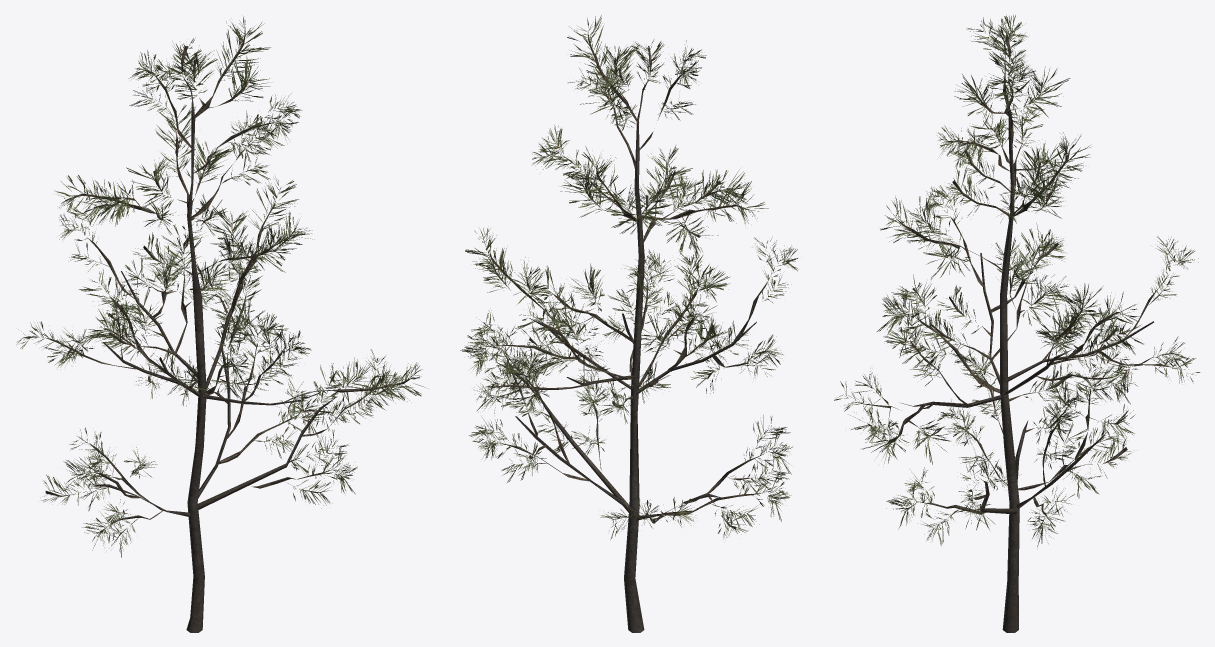
File: pine-sapling-small.glb
3 renders of one model, left to right at view 1: azimuth 30°, elevation 25°; view 2: azimuth 150°, elevation 25°; view 3: azimuth 270°, elevation 25°, orthographic.
Visible parts, largest first — view 1: pine_sapling_small_a; view 2: pine_sapling_small_a; view 3: pine_sapling_small_a.
Boxes of the visible parts, x1,y1,x2,y2 form: pine_sapling_small_a: (16, 17, 428, 632); pine_sapling_small_a: (460, 15, 798, 632); pine_sapling_small_a: (834, 14, 1200, 632).
Size of the model in its own units: 0.7857 by 1.3 by 0.7198.
1 material, 1 textured.
